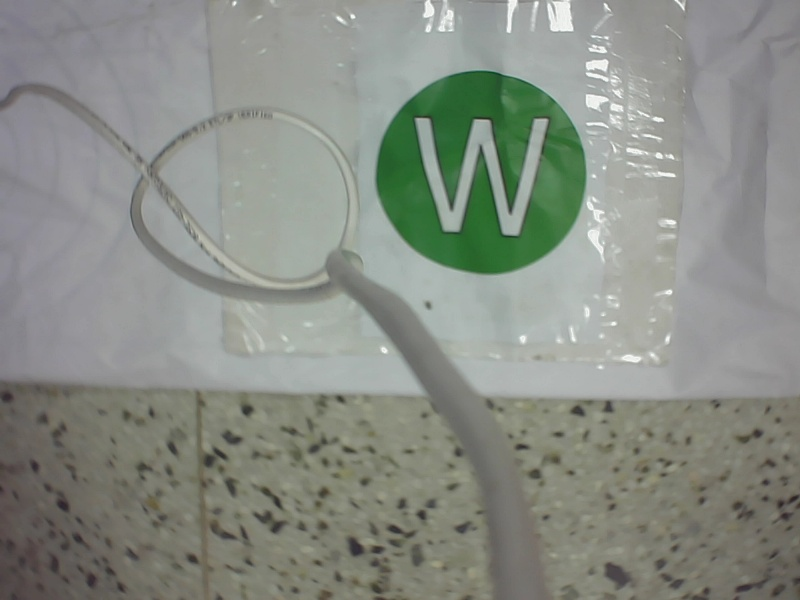areaB: (370, 68, 602, 282)
